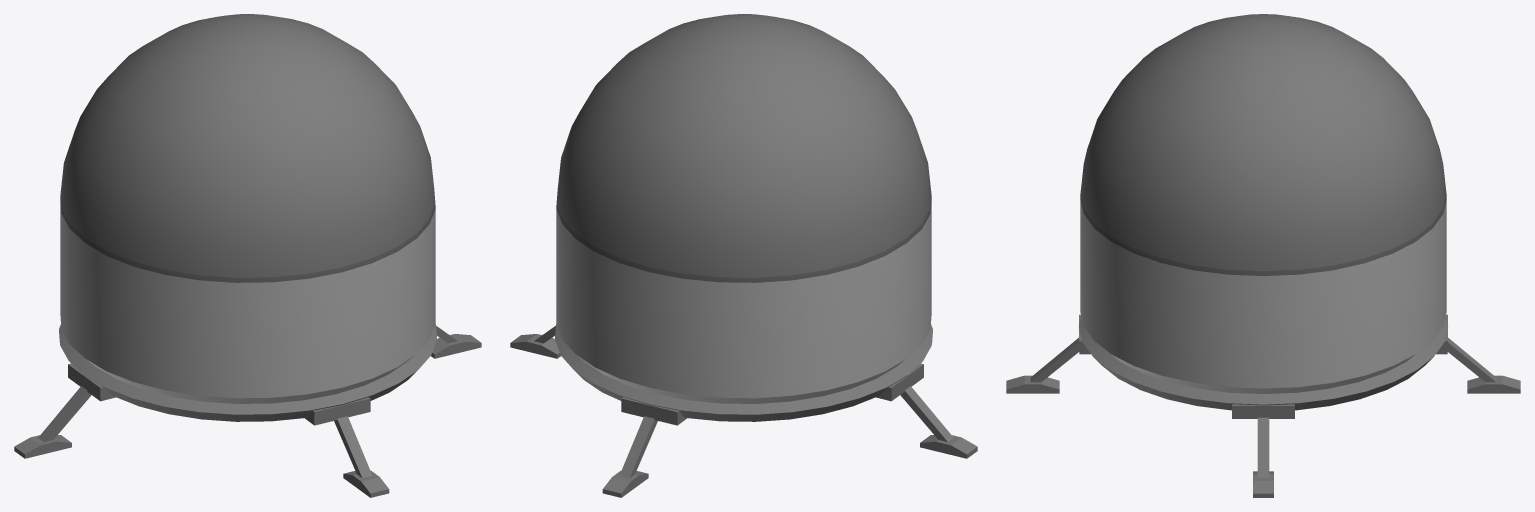
Rendered from house-cylinder.glb.
3 renders of one model, left to right at view 1: azimuth 30°, elevation 25°; view 2: azimuth 150°, elevation 25°; view 3: azimuth 270°, elevation 25°, orthographic. The views are drawn at different scales.
Parts seen in each view (by area): view 1: House_Cylinder; view 2: House_Cylinder; view 3: House_Cylinder.
Boxes of the visible parts, x1=… form: House_Cylinder: x1=14, y1=14, x2=481, y2=497; House_Cylinder: x1=510, y1=14, x2=977, y2=497; House_Cylinder: x1=1006, y1=14, x2=1520, y2=497.
Size of the model in its own units: 5.61 by 4.32 by 5.61.
1 material, 1 textured.
